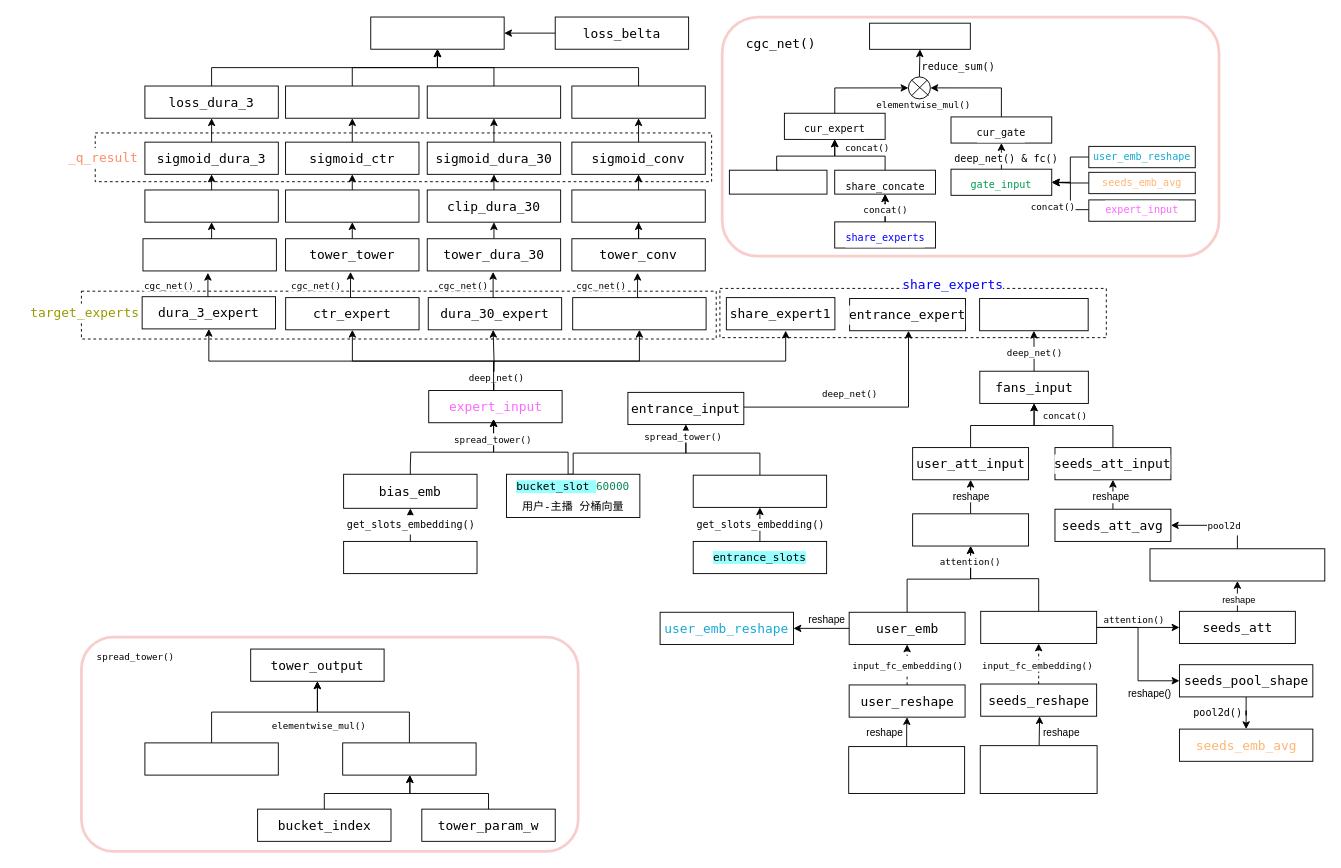
Some shapes in this 1341 by 868 pixel diagram are drawn without their labels. The shapes that lost their labels are listed below. From the top down, each one's centre as x and y in pixels, then its label:
At [437,32]: "UWL".
At [919,35]: "cur_gate_expert".
At [352,101]: "loss_ctr".
At [493,101]: "loss_dura_30".
At [638,101]: "loss_conv".
At [777,181]: "target_expert_i".
At [211,205]: "clip_dura_3".
At [352,205]: "clip_ctr".
At [638,205]: "clip_conv".
At [209,254]: "tower_dura_3".
At [639,313]: "conv_expert".
At [1033,314]: "fans_expert".
At [759,490]: "entrance_emb".
At [970,529]: "user_att".
At [410,557]: "bias_slots".
At [1237,564]: "seeds_att_pool_shape".
At [1038,627]: "seeds_emb".
At [211,758]: "tower_input".
At [409,758]: "tower_w".
At [906,770]: "user_slot 20003 用户gcf向量".
At [1038,769]: "seeds_slot 30000 主播聚类向量".
